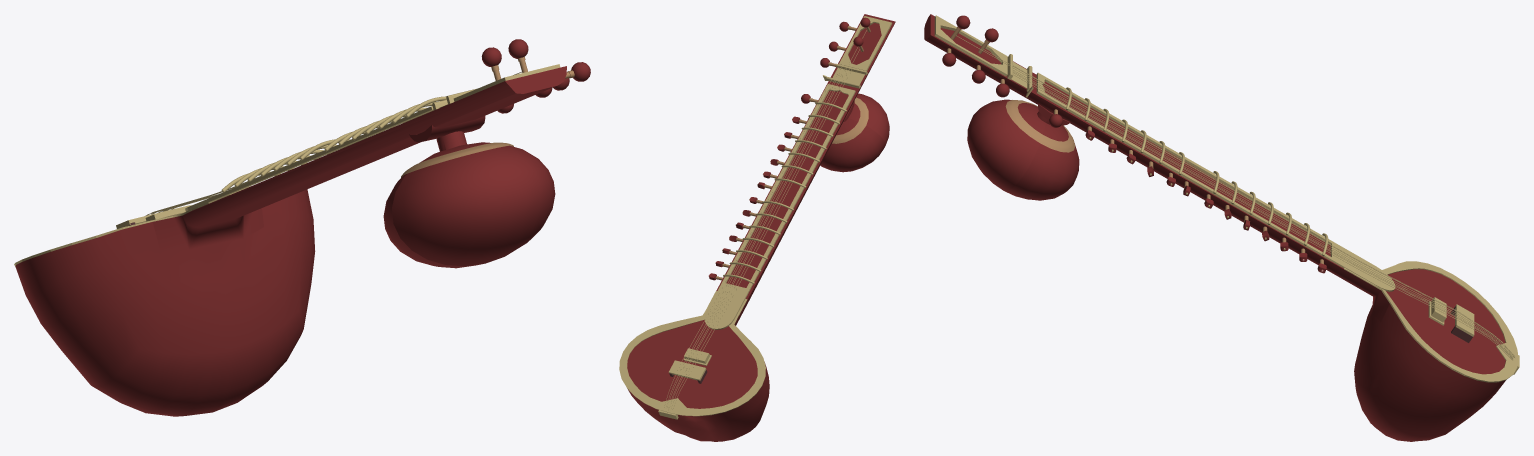
The model's file is sitar.gltf.
The picture shows the model from 3 angles, left to right: view 1: azimuth 30°, elevation 25°; view 2: azimuth 150°, elevation 25°; view 3: azimuth 270°, elevation 25°; orthographic projection. The views are drawn at different scales.
Visible parts, largest first — view 1: polySurface667, polySurface544, polySurface553, polySurface543, polySurface593; view 2: polySurface667, polySurface553, polySurface544, polySurface578, polySurface593, polySurface589, polySurface547, polySurface545, polySurface548, polySurface549, polySurface579, polySurface591 (+3 smaller); view 3: polySurface667, polySurface544, polySurface553, polySurface578, polySurface593, polySurface547, polySurface548, polySurface596, polySurface592, polySurface549.
Boxes of the visible parts, x1,y1,x2,y2 form: polySurface667: (14, 66, 566, 416); polySurface544: (383, 142, 555, 268); polySurface553: (187, 106, 433, 210); polySurface543: (409, 116, 485, 142); polySurface593: (401, 142, 513, 177); polySurface667: (619, 14, 895, 441); polySurface553: (706, 84, 855, 319); polySurface544: (808, 93, 889, 172); polySurface578: (839, 16, 892, 70); polySurface593: (832, 97, 868, 143); polySurface589: (668, 360, 706, 380); polySurface547: (668, 30, 866, 410); polySurface545: (704, 312, 733, 329); polySurface548: (670, 49, 859, 410); polySurface549: (672, 69, 851, 409); polySurface579: (833, 68, 864, 84); polySurface591: (667, 67, 842, 407); polySurface667: (924, 14, 1517, 441); polySurface544: (967, 99, 1079, 200); polySurface553: (1036, 72, 1376, 285); polySurface578: (934, 15, 1007, 76); polySurface593: (1005, 100, 1075, 152); polySurface547: (956, 35, 1515, 358); polySurface548: (983, 49, 1515, 356); polySurface596: (1013, 74, 1513, 360); polySurface592: (1013, 70, 1513, 357); polySurface549: (1013, 65, 1513, 354).
Bounding box in the file's own units: 2.56 × 5.29 × 6.83.
